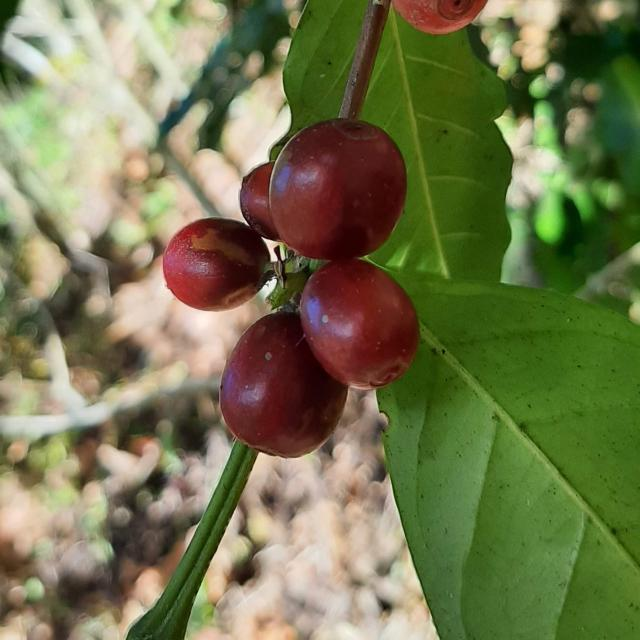red: (269, 117, 407, 260), (220, 312, 348, 458), (300, 258, 420, 389), (162, 217, 270, 311), (239, 161, 281, 241), (392, 0, 488, 34)
